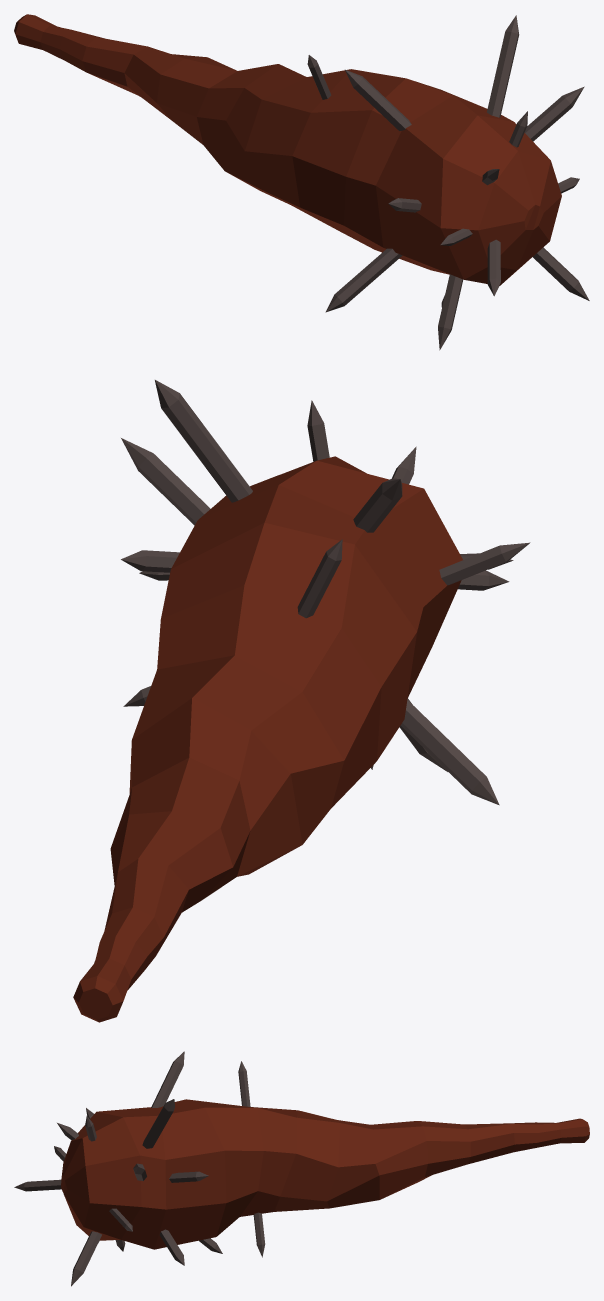
Rendered from goblinOgreClub.fbx.
3 renders of one model, top to bottom at view 1: azimuth 30°, elevation 25°; view 2: azimuth 150°, elevation 25°; view 3: azimuth 270°, elevation 25°, orthographic. The views are drawn at different scales.
Parts seen in each view (by area): view 1: ogreClub; view 2: ogreClub; view 3: ogreClub.
Boxes of the visible parts, bbox=[...] form: ogreClub: bbox=[14, 14, 589, 350]; ogreClub: bbox=[73, 380, 530, 1022]; ogreClub: bbox=[14, 1051, 589, 1286].
Size of the model in its own units: 74.97 by 65.78 by 169.
